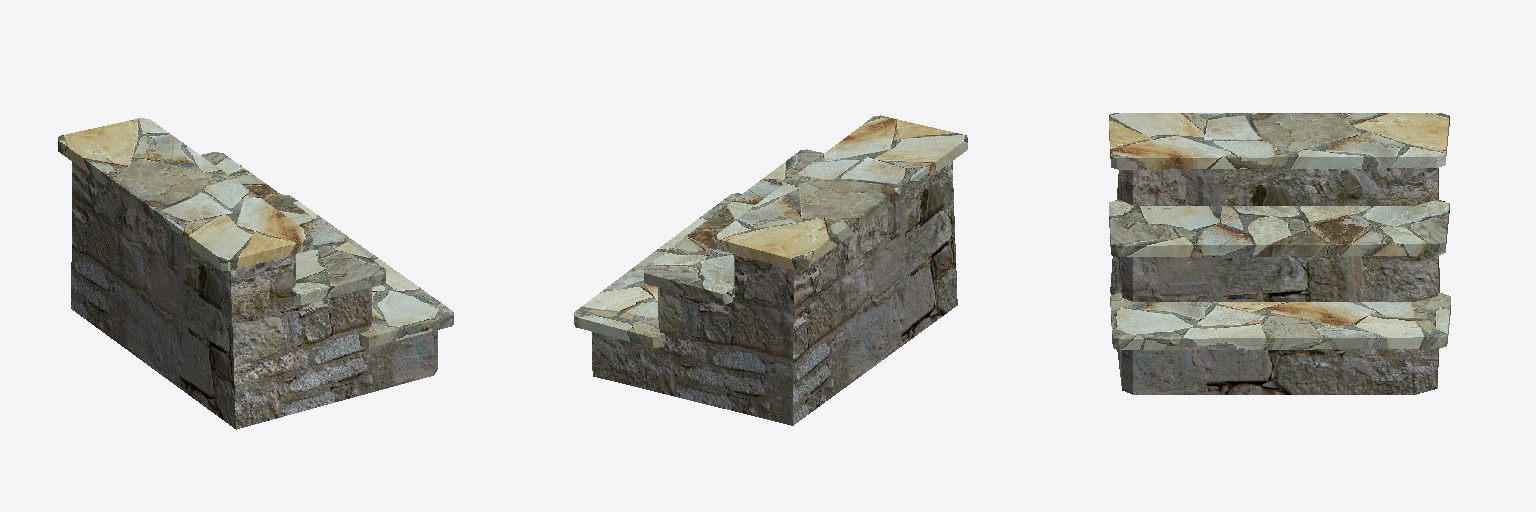
3 renders of one model, left to right at view 1: azimuth 30°, elevation 25°; view 2: azimuth 150°, elevation 25°; view 3: azimuth 270°, elevation 25°, orthographic.
Parts seen in each view (by area): view 1: Box01, Box04, Box03, Box02; view 2: Box01, Box04, Box03, Box02; view 3: Box01, Box04, Box03, Box02.
Part boxes in pixels (x1,y1,x2,y2): Box01: (71,162,437,429); Box04: (58,118,312,270); Box03: (201,152,385,304); Box02: (281,194,453,347); Box01: (592,161,957,425); Box04: (717,115,967,269); Box03: (644,149,823,303); Box02: (574,193,741,347); Box01: (1110,168,1439,394); Box04: (1109,113,1449,169); Box03: (1109,200,1449,256); Box02: (1110,293,1450,349).
Bounding box in the file's own units: 0.8849 × 0.619 × 1.12.
Materials: 2 (2 with a texture image).